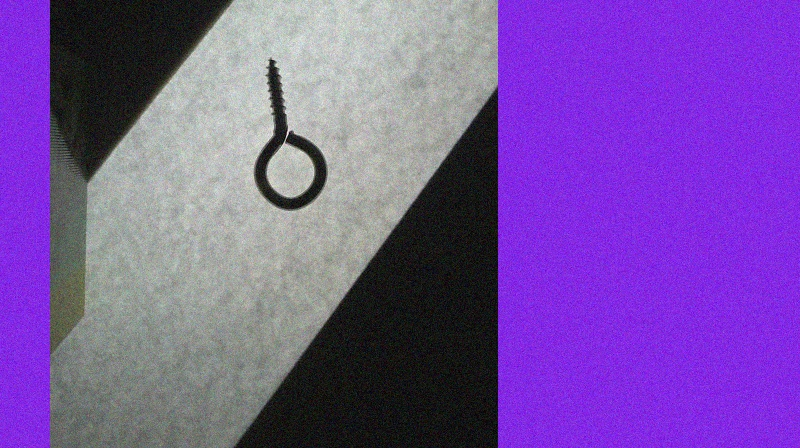O001: (252, 53, 331, 213)
